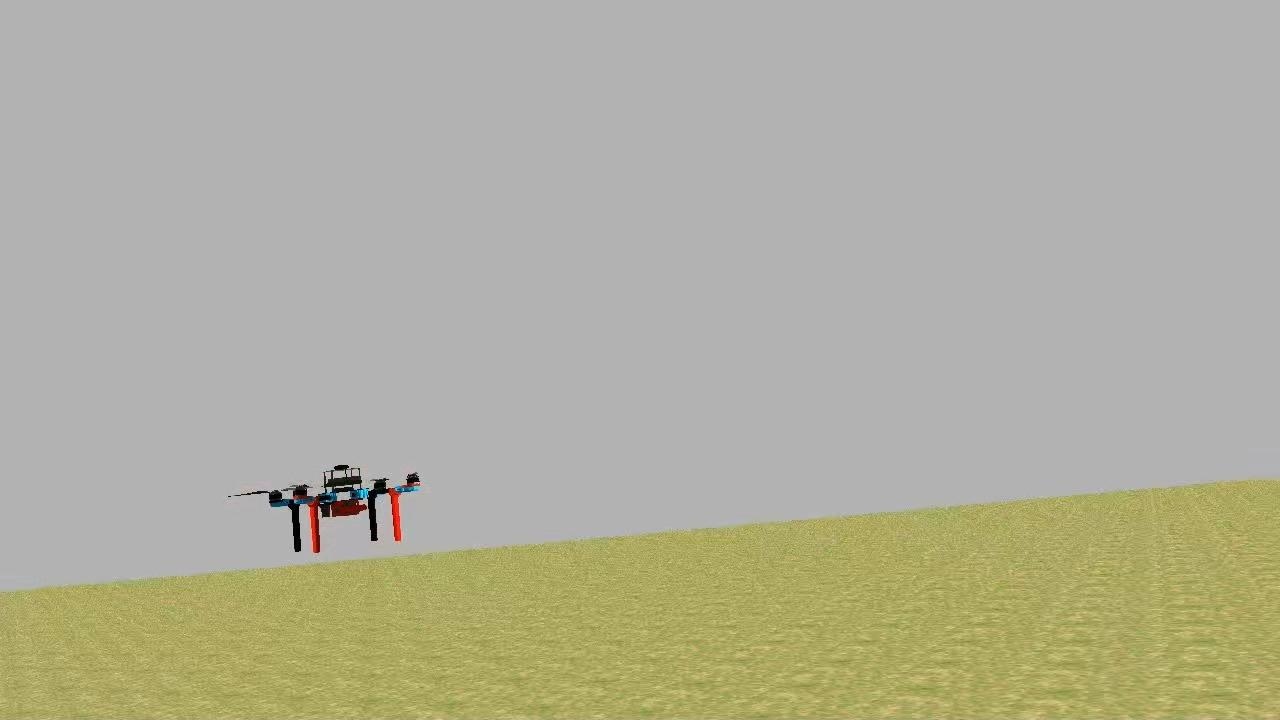UAV: (264, 456, 424, 562)
